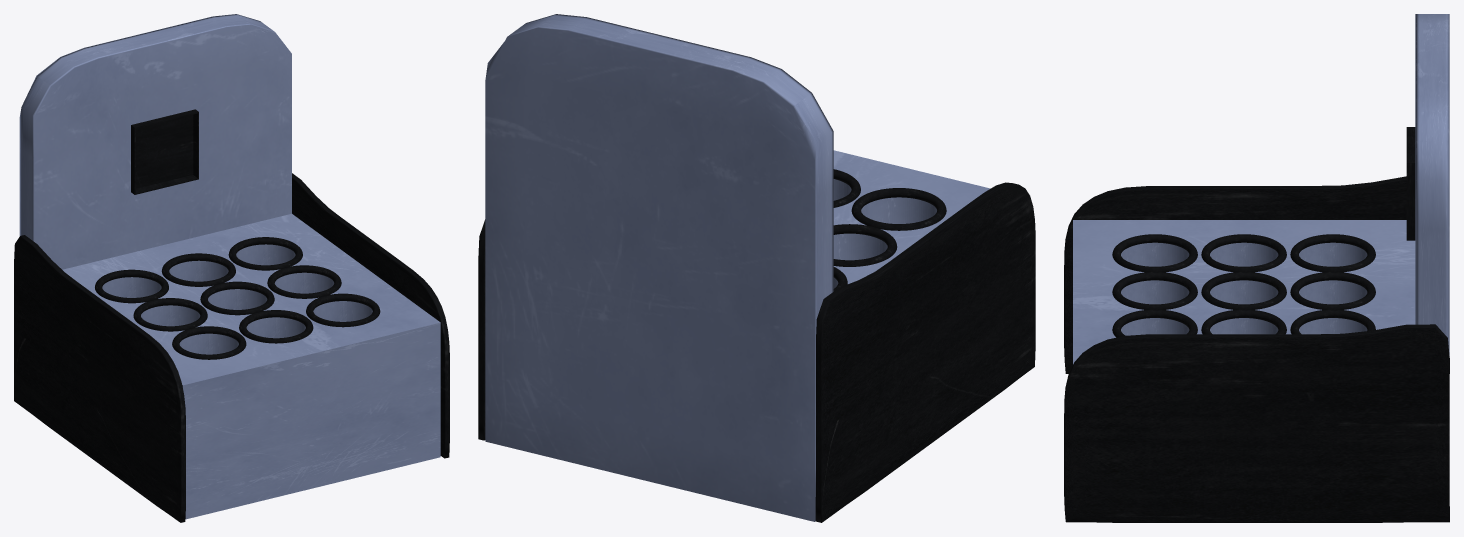
File: WhackAMoleMachine.glb
The picture shows the model from 3 angles, left to right: view 1: azimuth 30°, elevation 25°; view 2: azimuth 150°, elevation 25°; view 3: azimuth 270°, elevation 25°; orthographic projection. The views are drawn at different scales.
Parts seen in each view (by area): view 1: WhackAMoleMachine, Backboard, SideboardLeft, SideboardLeft.001, ScoreDisplay, Torus.001, Torus.004, Torus, Torus.006, Torus.008, Torus.003, Torus.007 (+2 smaller); view 2: Backboard, SideboardLeft, WhackAMoleMachine, Torus.008, SideboardLeft.001, Torus.002; view 3: SideboardLeft.001, WhackAMoleMachine, SideboardLeft, Backboard, Torus.005, Torus.002, Torus.008, Torus, Torus.003, Torus.006, ScoreDisplay, Torus.007 (+2 smaller).
Boxes of the visible parts, <box> form: WhackAMoleMachine: <box>62,213,440,519</box>; Backboard: <box>19,14,291,269</box>; SideboardLeft: <box>14,235,185,522</box>; SideboardLeft.001: <box>292,173,449,458</box>; ScoreDisplay: <box>131,109,198,194</box>; Torus.001: <box>267,265,341,298</box>; Torus.004: <box>228,237,302,270</box>; Torus: <box>200,281,274,315</box>; Torus.006: <box>239,310,313,343</box>; Torus.008: <box>172,326,246,359</box>; Torus.003: <box>161,253,235,286</box>; Torus.007: <box>306,293,380,327</box>; Backboard: <box>485,14,833,521</box>; SideboardLeft: <box>815,182,1035,522</box>; WhackAMoleMachine: <box>833,150,990,288</box>; Torus.008: <box>851,188,946,230</box>; SideboardLeft.001: <box>478,219,485,440</box>; Torus.002: <box>833,224,897,266</box>; SideboardLeft.001: <box>1064,324,1449,522</box>; WhackAMoleMachine: <box>1073,220,1415,364</box>; SideboardLeft: <box>1064,176,1449,373</box>; Backboard: <box>1415,14,1449,355</box>; Torus.005: <box>1290,234,1375,272</box>; Torus.002: <box>1201,234,1286,272</box>; Torus.008: <box>1112,234,1197,272</box>; Torus: <box>1201,272,1286,309</box>; Torus.003: <box>1290,272,1375,309</box>; Torus.006: <box>1112,272,1197,309</box>; ScoreDisplay: <box>1406,127,1415,240</box>; Torus.007: <box>1112,309,1197,337</box>.
Bounding box in the file's own units: 1.05 × 1.25 × 1.13.
5 materials, 5 textured.
